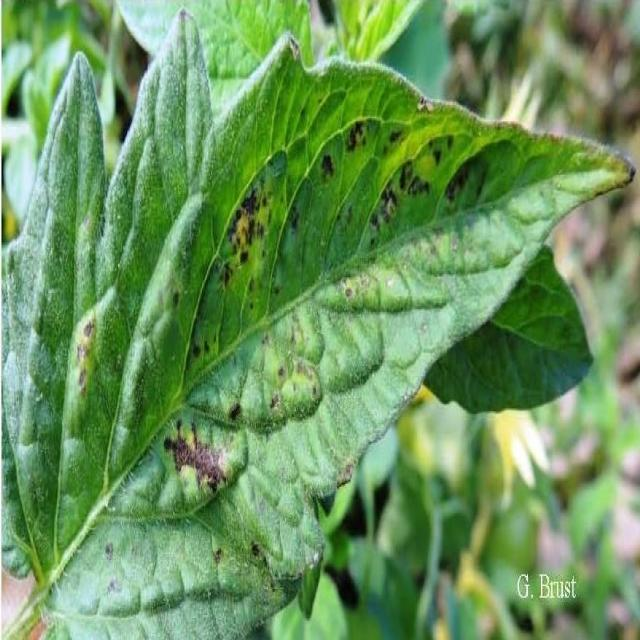Bacterial Spot: (72, 121, 488, 505)
